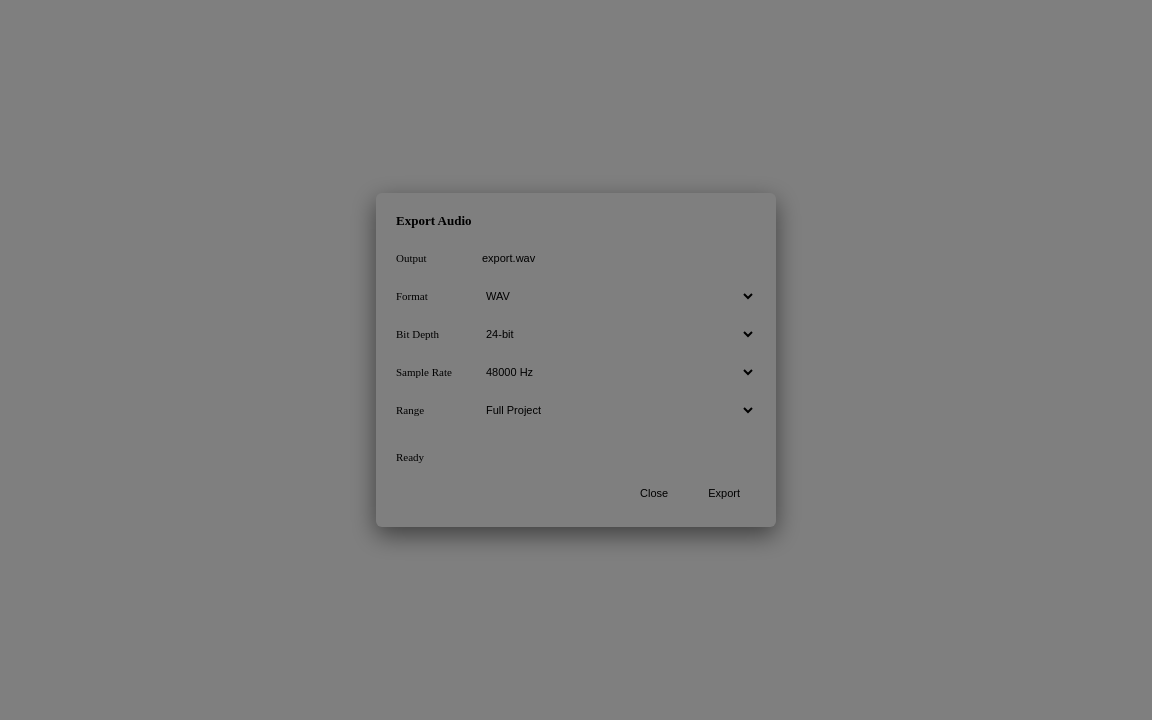
it: ExportDialog › changing format updates the output filename extension
Select "AIFF" in the dropdown next to "Format": {"x": 615, "y": 296} [474,283,756,309]
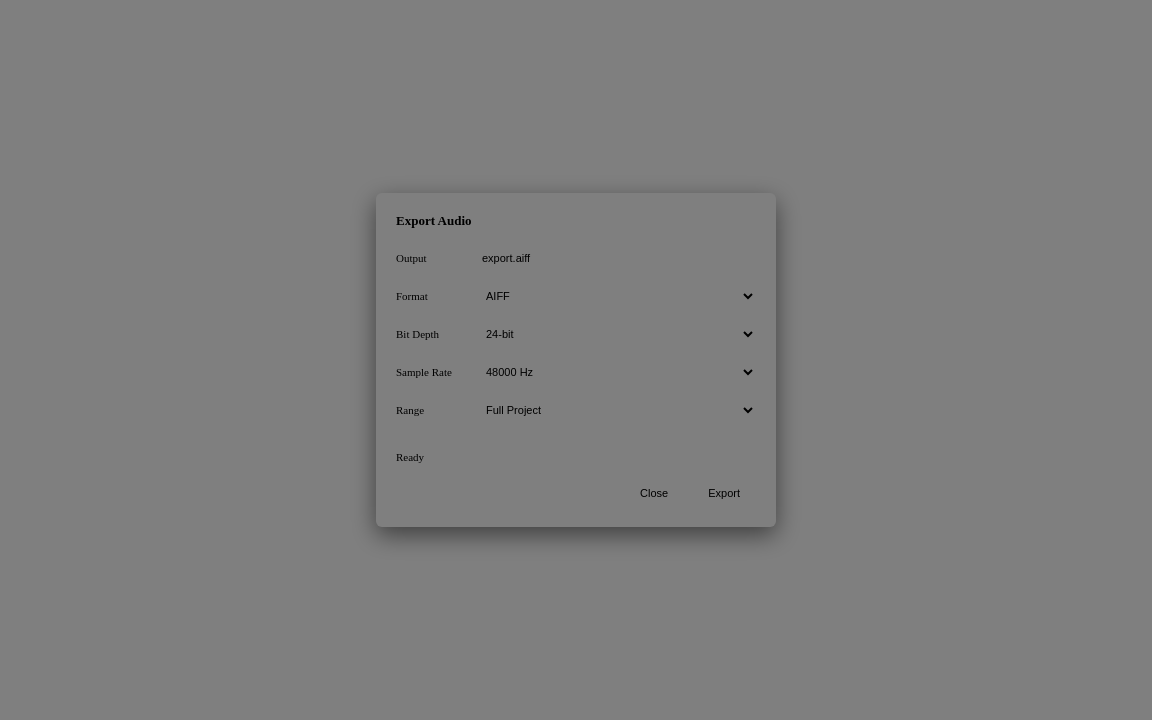
Check: the field holds "export.aiff", box [474,245,756,271]
Select "FLAC" in the dropdown next to "Format": {"x": 615, "y": 296} [474,283,756,309]
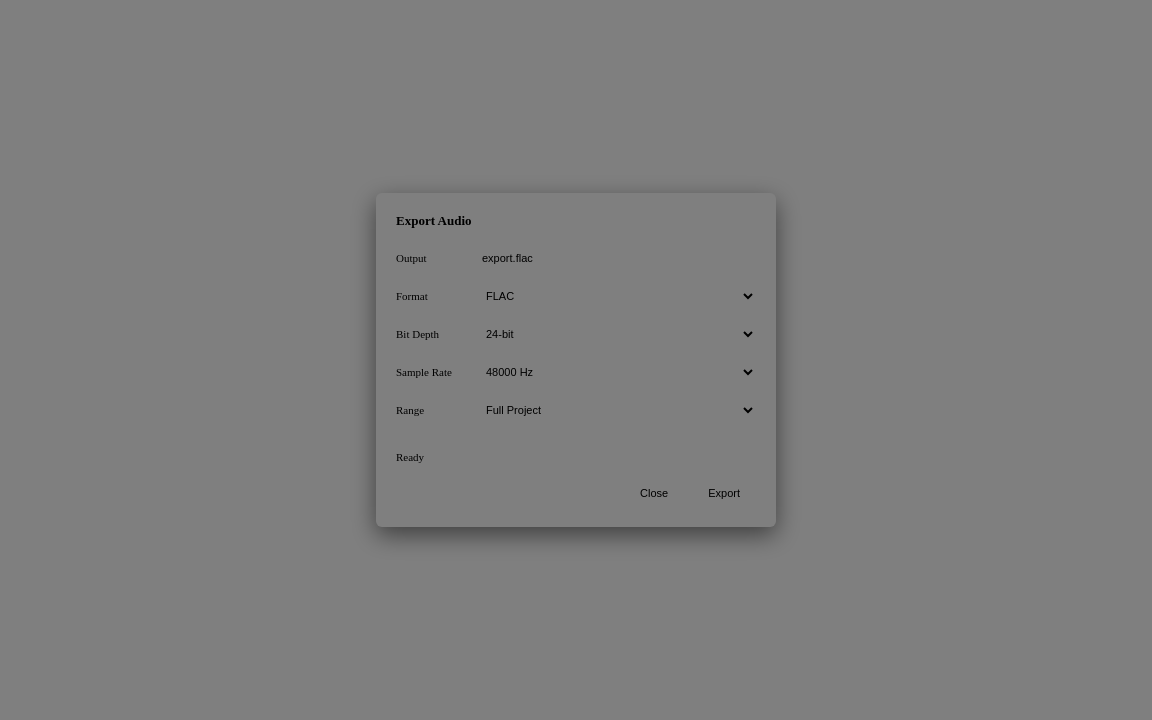
Check: the field holds "export.flac", box [474,245,756,271]
Select "WAV" in the dropdown next to "Format": {"x": 615, "y": 296} [474,283,756,309]
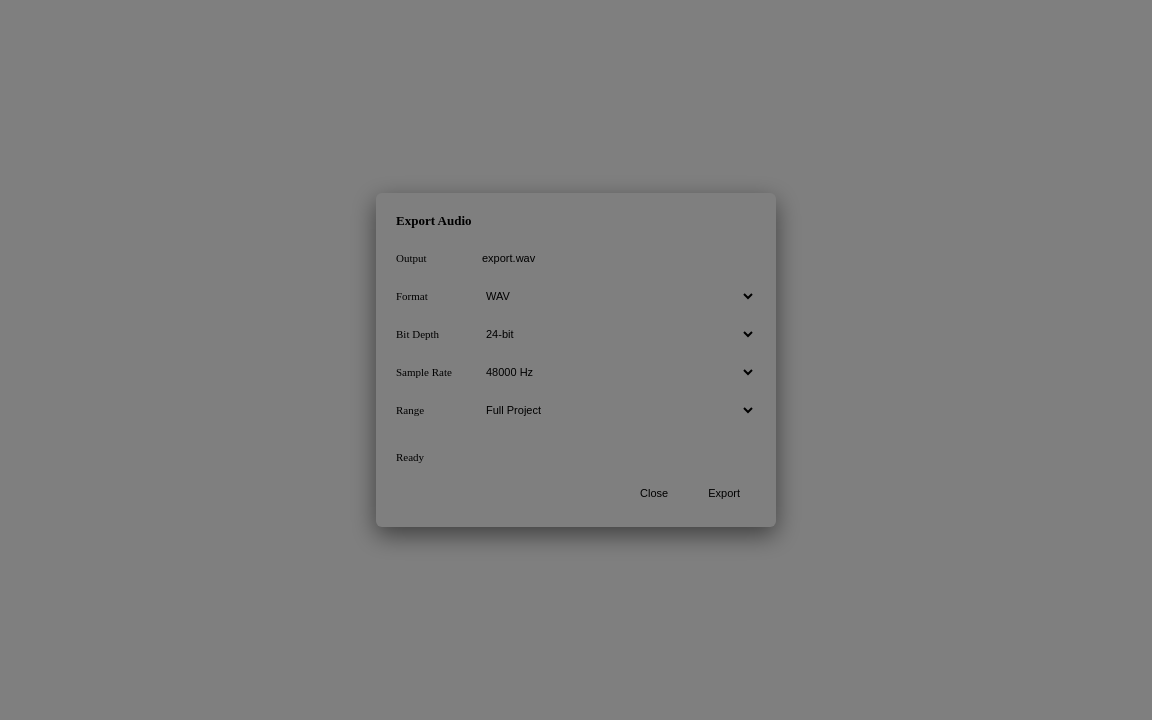
Check: the field holds "export.wav", box [474,245,756,271]
